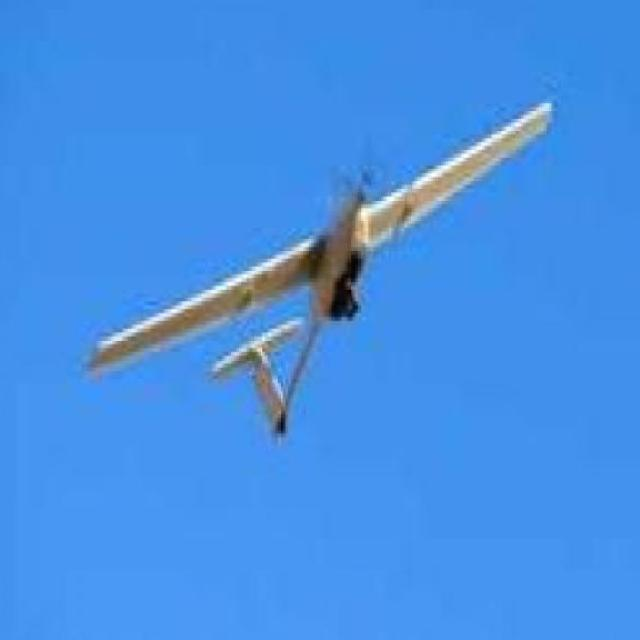plane: (82, 96, 556, 443)
